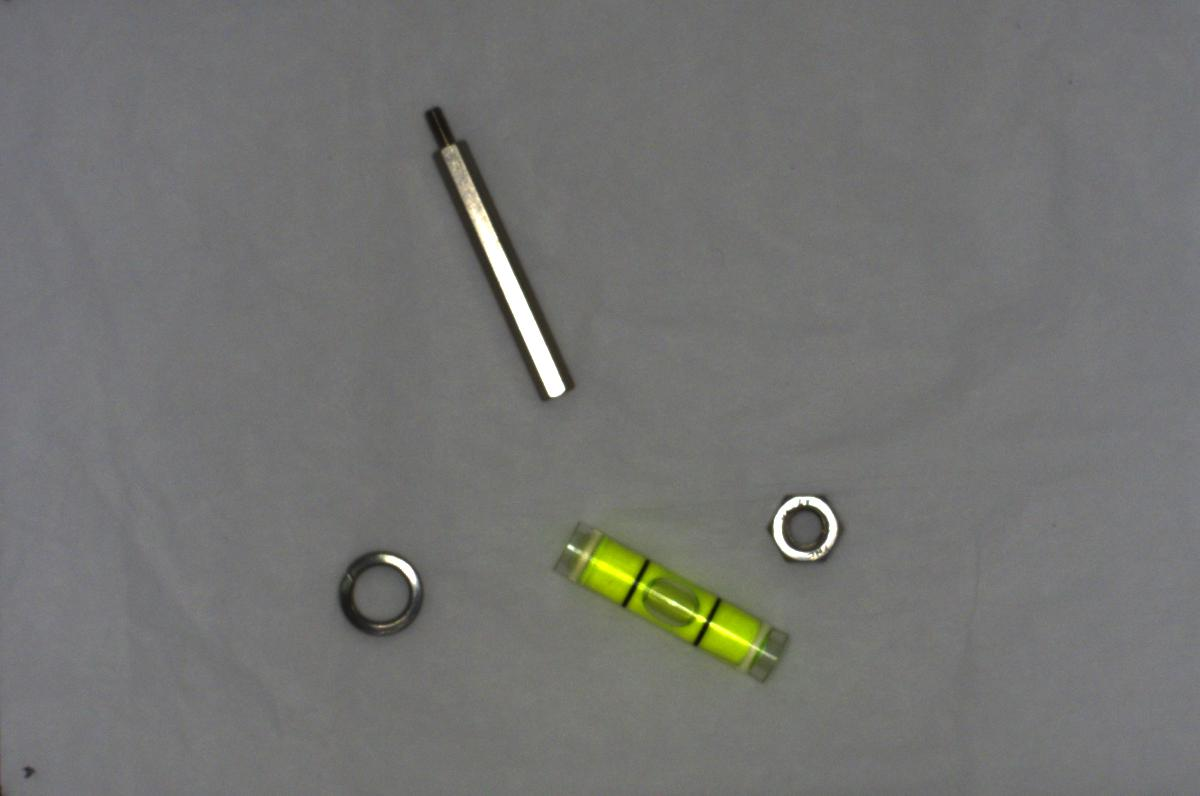Hexagon nut: (765, 486, 851, 570)
Hexagonal steel column: (421, 95, 579, 414)
Horizontal bubble: (546, 515, 788, 687)
Spring washer: (331, 543, 422, 640)
